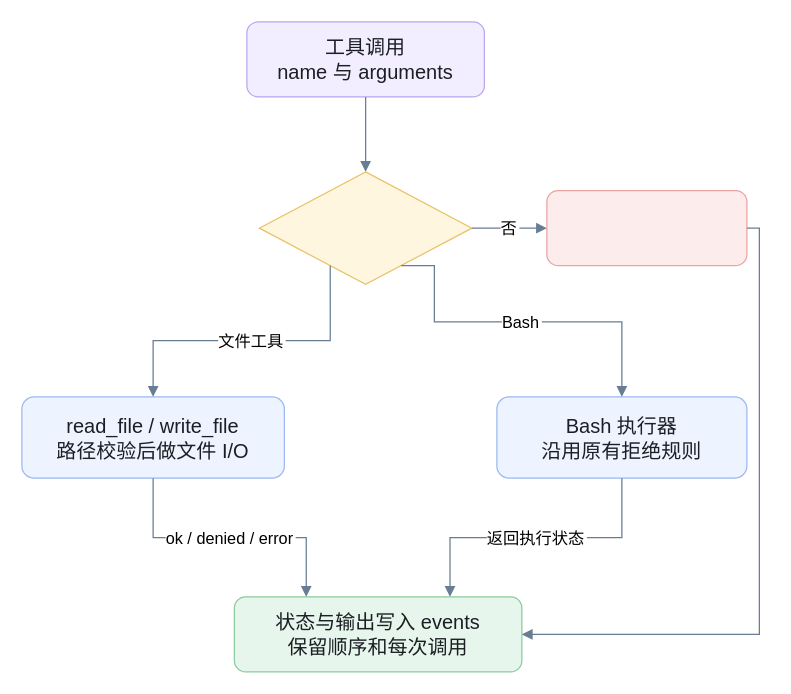
This 791x694 diagram has some shape labels left out. Each missing label, with the box of its shape:
invalid 保留拒绝原因: (546, 189, 747, 266)
工具与参数有效？: (258, 171, 472, 284)
